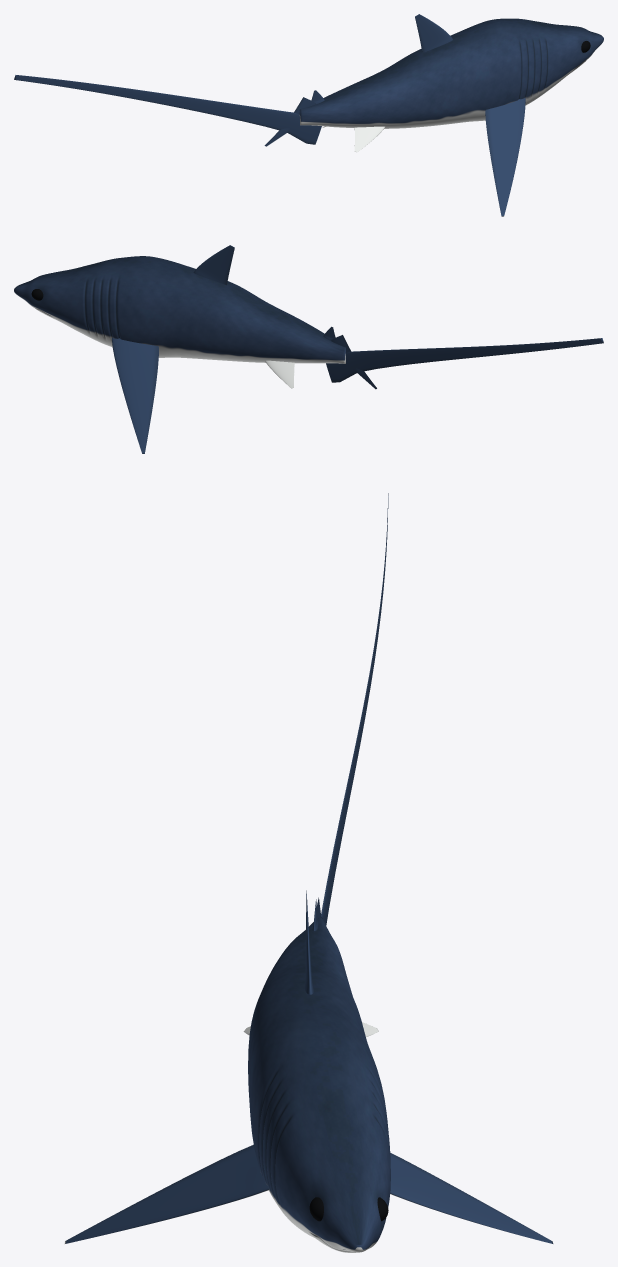
The model's file is pelagic_thresher.glb.
3 renders of one model, top to bottom at view 1: azimuth 30°, elevation 25°; view 2: azimuth 150°, elevation 25°; view 3: azimuth 270°, elevation 25°, orthographic. The views are drawn at different scales.
Visible parts, largest first — view 1: PelagicThresher_Body, PelagicThresher_Fins; view 2: PelagicThresher_Body, PelagicThresher_Fins; view 3: PelagicThresher_Body, PelagicThresher_Fins.
Part boxes in pixels (left/top/right/bottom): PelagicThresher_Body: left=299, top=18, right=603, bottom=128; PelagicThresher_Fins: left=14, top=14, right=525, bottom=216; PelagicThresher_Body: left=14, top=256, right=345, bottom=363; PelagicThresher_Fins: left=112, top=245, right=603, bottom=453; PelagicThresher_Body: left=248, top=917, right=390, bottom=1252; PelagicThresher_Fins: left=64, top=493, right=553, bottom=1243.
Size of the model in its own units: 3 by 0.8966 by 1.09.
Materials: 3 (1 with a texture image).
